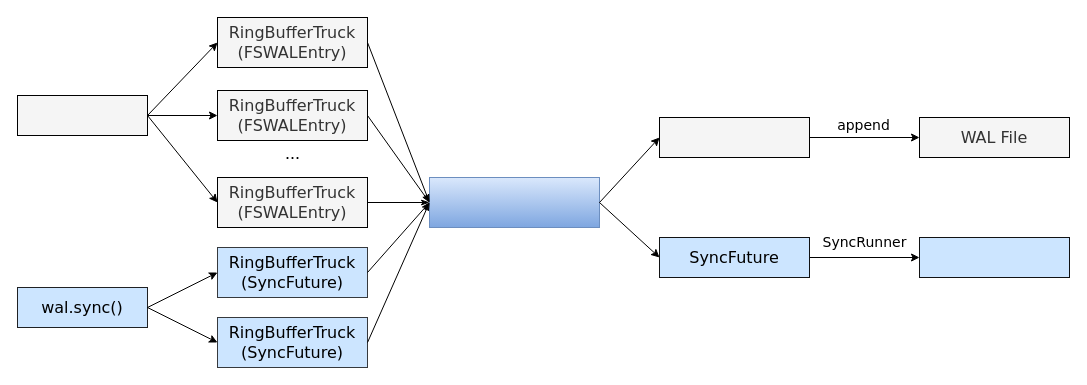
Image size: 1087x385. Some labels were removed from this diagram. Each missing label, with the centre of its shape:
Disruptor: point 514,202
FSWALEntry: point 734,137
Sync to WAL: point 994,257
wal.append(): point 82,115
